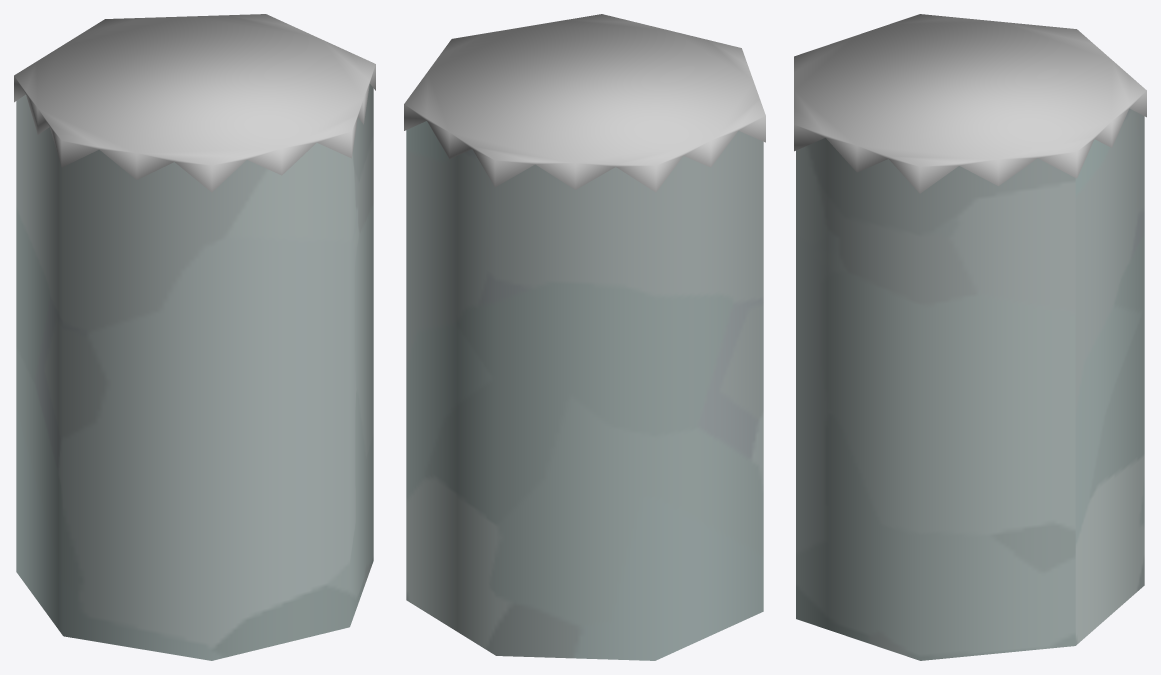
The model's file is terrain_2.fbx.
3 views of the same model, side by side, from view 1: azimuth 30°, elevation 25°; view 2: azimuth 150°, elevation 25°; view 3: azimuth 270°, elevation 25° (orthographic).
Visible parts, largest first — view 1: Cylinder.001; view 2: Cylinder.001; view 3: Cylinder.001.
Part boxes in pixels (x1,y1,x2,y2): Cylinder.001: [14, 14, 375, 660]; Cylinder.001: [404, 14, 765, 660]; Cylinder.001: [794, 14, 1146, 660].
Size of the model in its own units: 451 by 680 by 439.
